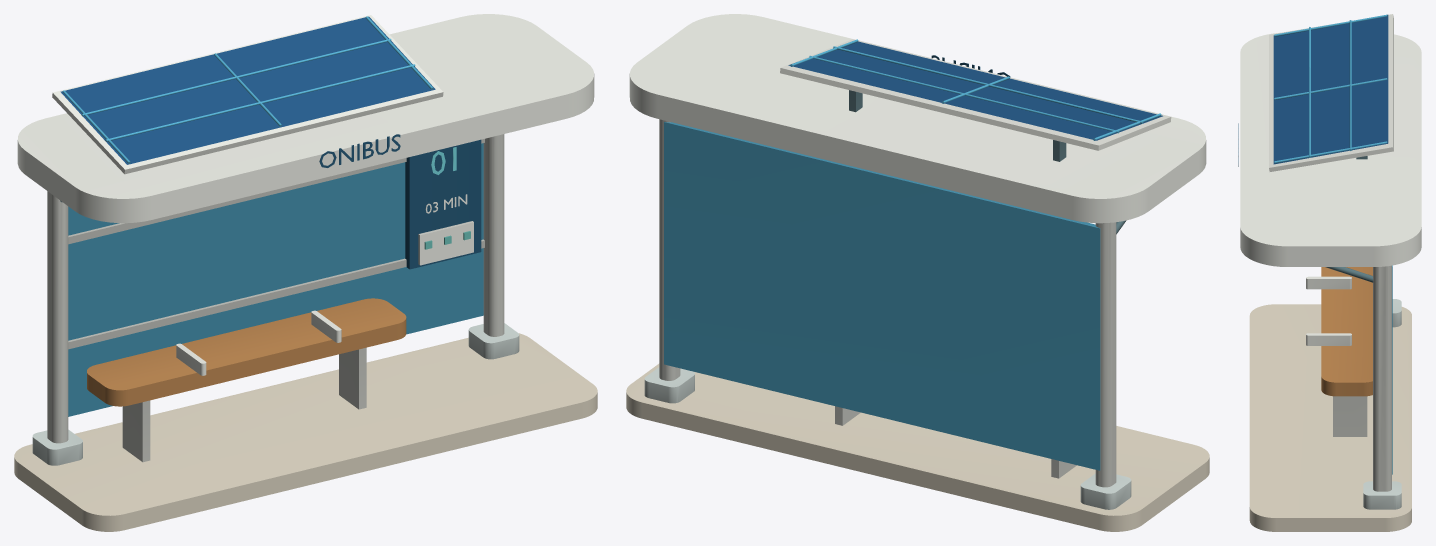
Rendered from bus-shelter.glb.
3 renders of one model, left to right at view 1: azimuth 30°, elevation 25°; view 2: azimuth 150°, elevation 25°; view 3: azimuth 270°, elevation 25°, orthographic. The views are drawn at different scales.
Parts seen in each view (by area): view 1: shelter column, bus stop foundation, rear shelter glazing, photovoltaic cells, shelter bench, live timetable, shelter column base; view 2: rear shelter glazing, shelter column, bus stop foundation, photovoltaic cells, shelter column base; view 3: shelter column, bus stop foundation, photovoltaic cells, shelter bench, rear shelter glazing, shelter column base, panel foot.
Boxes of the visible parts, x1,y1,x2,y2 form: shelter column: (17, 14, 594, 462); bus stop foundation: (14, 333, 597, 531); rear shelter glazing: (62, 16, 483, 416); photovoltaic cells: (60, 16, 435, 164); shelter bench: (87, 298, 406, 406); live timetable: (319, 134, 481, 269); shelter column base: (32, 323, 519, 465); rear shelter glazing: (664, 39, 1161, 470); shelter column: (629, 14, 1206, 487); bus stop foundation: (626, 363, 1209, 531); photovoltaic cells: (788, 41, 1162, 140); shelter column base: (644, 367, 1131, 509); shelter column: (1240, 14, 1421, 491); bus stop foundation: (1249, 304, 1411, 531); photovoltaic cells: (1273, 14, 1388, 164); shelter bench: (1321, 267, 1372, 396); rear shelter glazing: (1274, 14, 1392, 474); shelter column base: (1363, 299, 1401, 509); panel foot: (1325, 156, 1373, 282).
Bounding box in the file's own units: 2.65 × 1.86 × 0.96.
